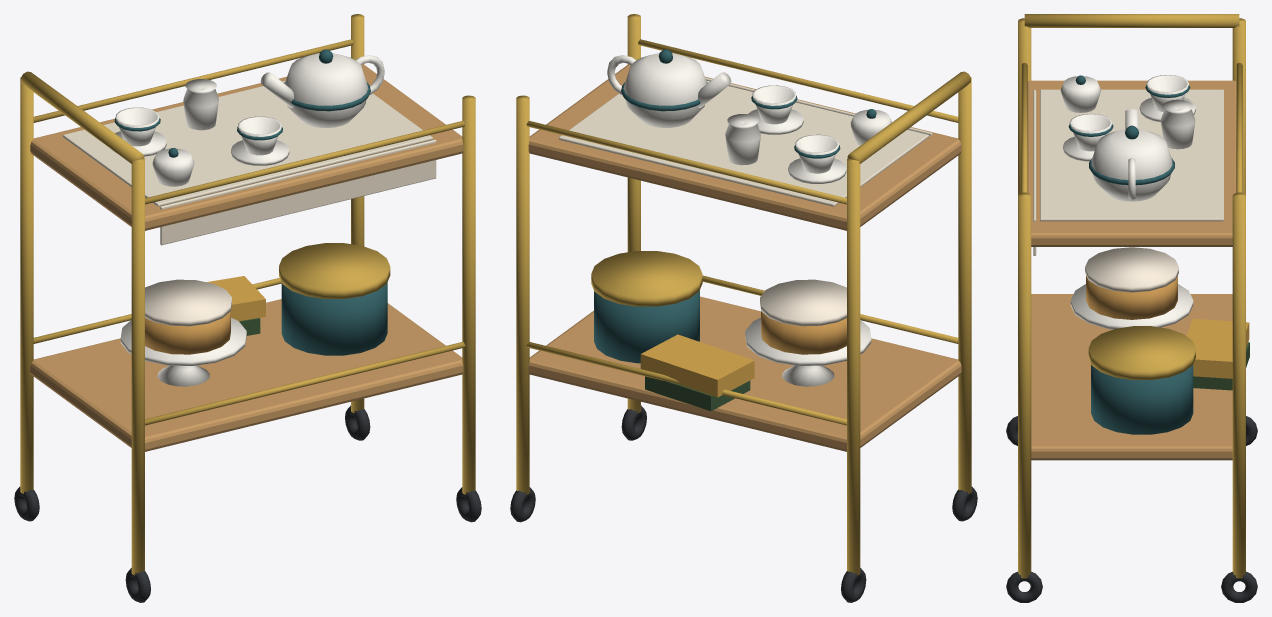
File: teaTrolley.glb
The picture shows the model from 3 angles, left to right: view 1: azimuth 30°, elevation 25°; view 2: azimuth 150°, elevation 25°; view 3: azimuth 270°, elevation 25°; orthographic projection. The views are drawn at different scales.
Parts seen in each view (by area): view 1: body, teapot; view 2: body, teapot; view 3: body, teapot.
Boxes of the visible parts, x1,y1,x2,y2 form: body: [14, 14, 481, 602]; teapot: [260, 49, 384, 127]; body: [510, 14, 977, 602]; teapot: [607, 49, 731, 127]; body: [1006, 14, 1257, 602]; teapot: [1089, 109, 1174, 201].
Size of the model in its own units: 0.7457 by 0.9391 by 0.492.
